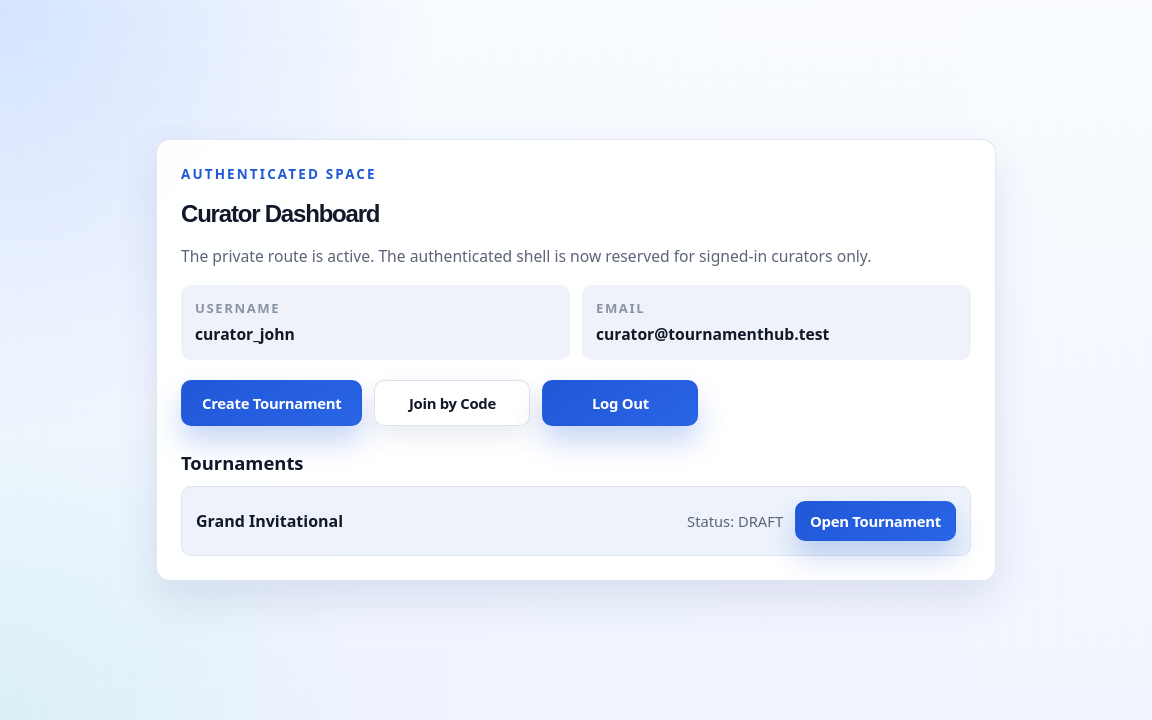
Test: Authenticated routing › shows an inline error for an invalid dashboard room code
Expected: the heading "Curator Dashboard" is shown, [181,200,379,227]
Step 1. Click the button "Join by Code" → click(452, 403), box [374,380,530,426]
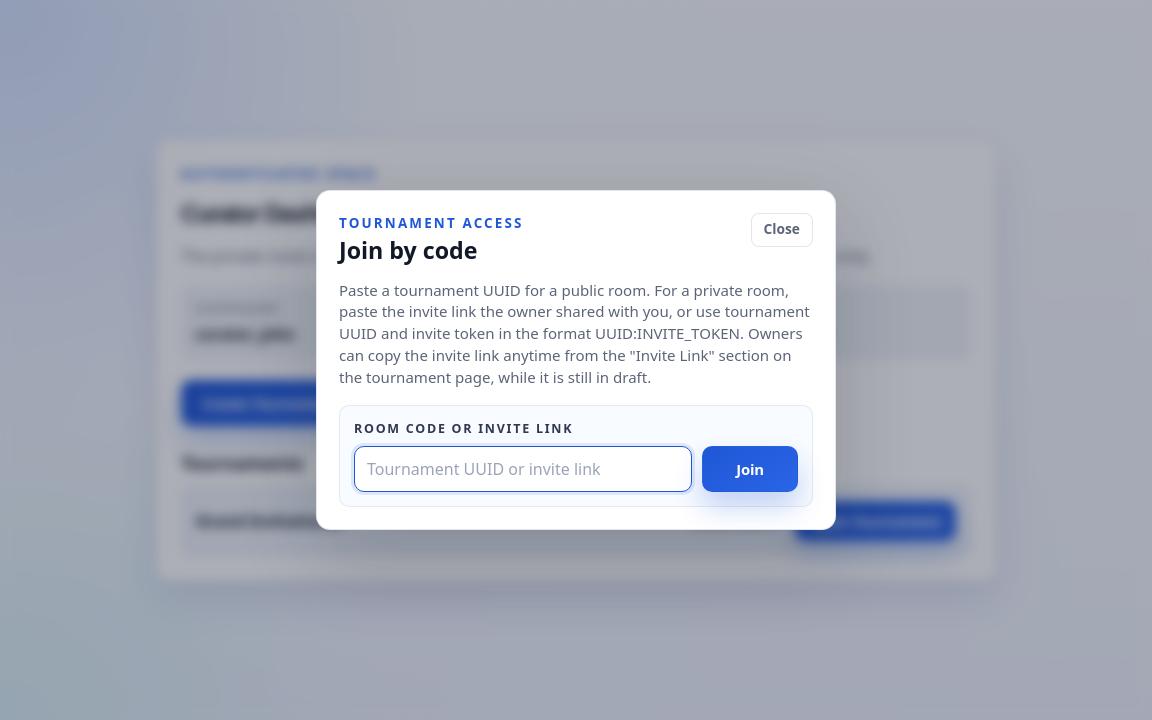
Step 2. Type "not-a-room" into the field labelled "Room code or invite link" → (523, 469), box [354,446,692,492]
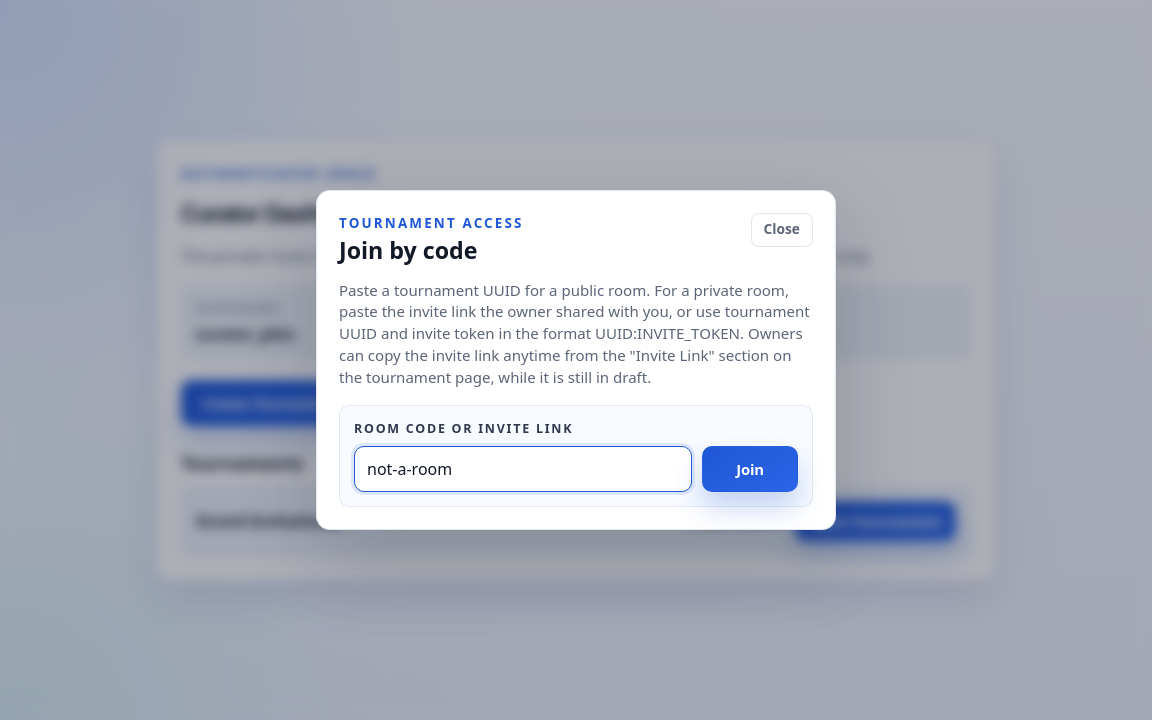
Step 3. Click the button "Join" → click(750, 469), box [702,446,798,492]
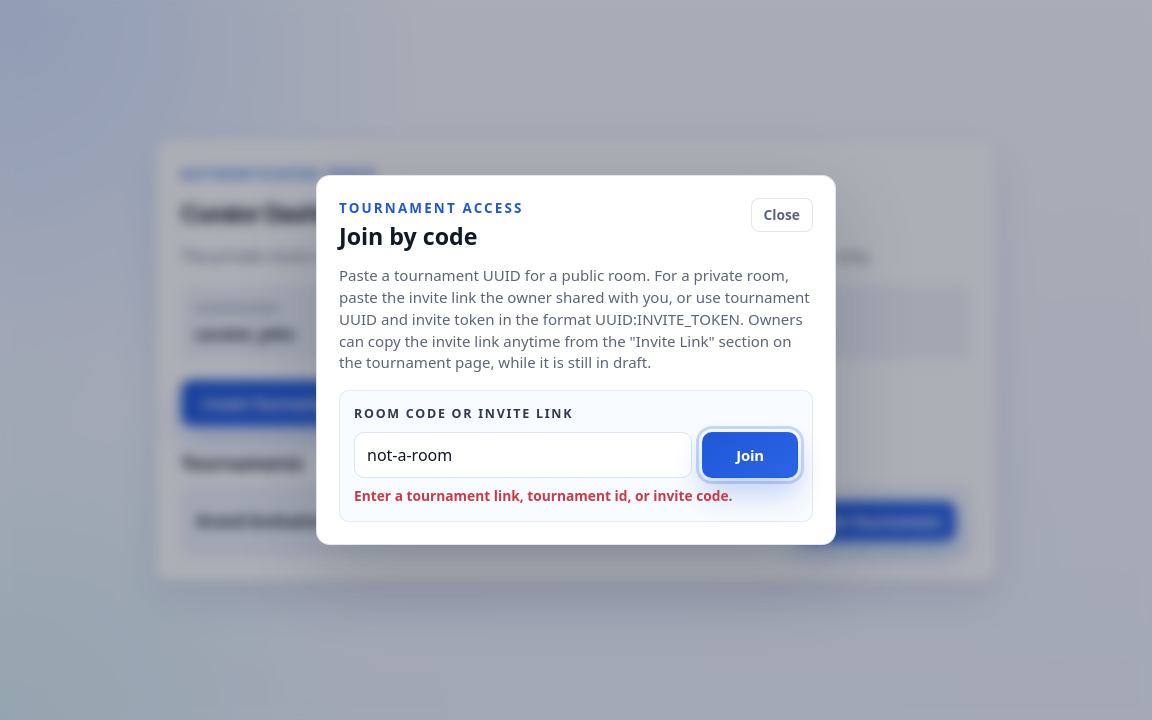
Expected: the message shows "Enter a tournament link", [354,486,732,505]
